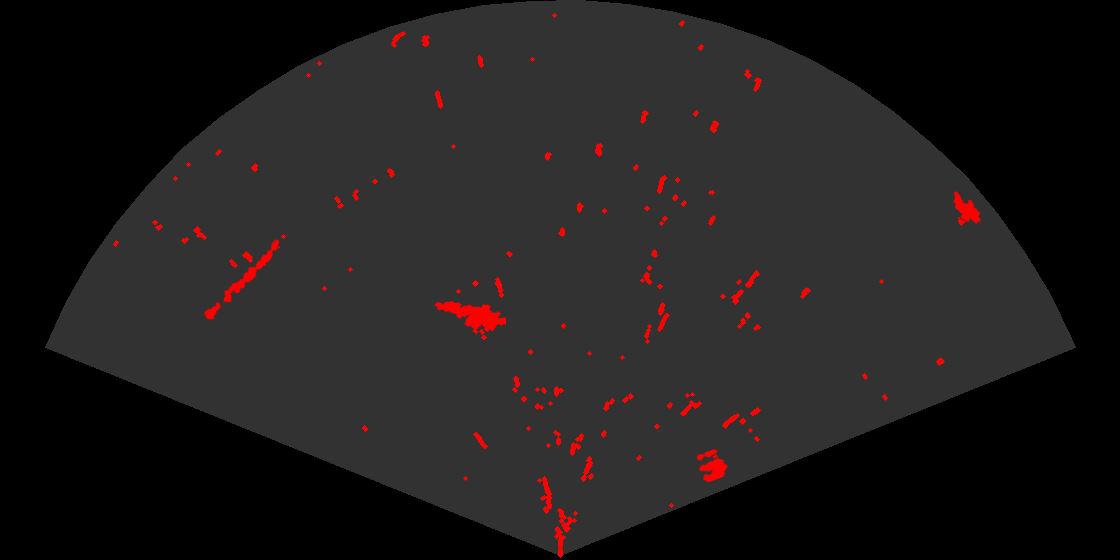AUV: (952, 190, 982, 225)
ball: (694, 447, 730, 484)
chain: (202, 238, 281, 321)
frogman: (433, 300, 506, 336)
